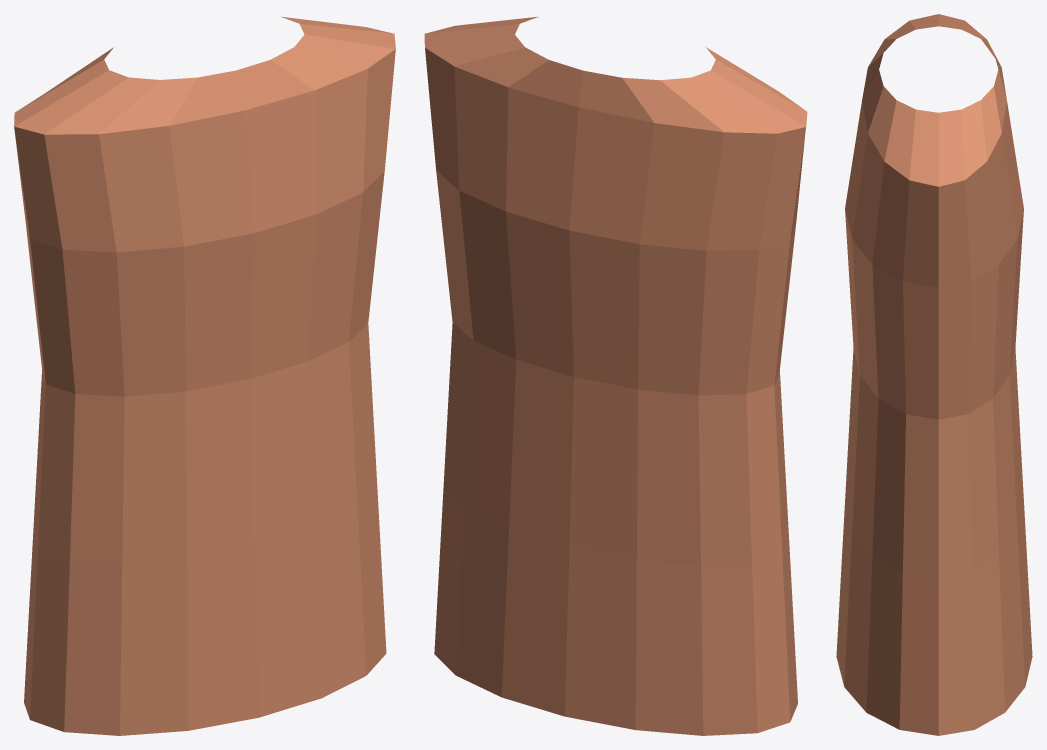
Rendered from rust_shirt.glb.
3 renders of one model, left to right at view 1: azimuth 30°, elevation 25°; view 2: azimuth 150°, elevation 25°; view 3: azimuth 270°, elevation 25°, orthographic. The views are drawn at different scales.
Parts seen in each view (by area): view 1: Rust Linen Shirt; view 2: Rust Linen Shirt; view 3: Rust Linen Shirt.
Part boxes in pixels (bbox=[...]): Rust Linen Shirt: bbox=[14, 16, 395, 735]; Rust Linen Shirt: bbox=[424, 16, 807, 735]; Rust Linen Shirt: bbox=[836, 14, 1032, 735].
Bounding box in the file's own units: 0.48 × 0.76 × 0.23.
